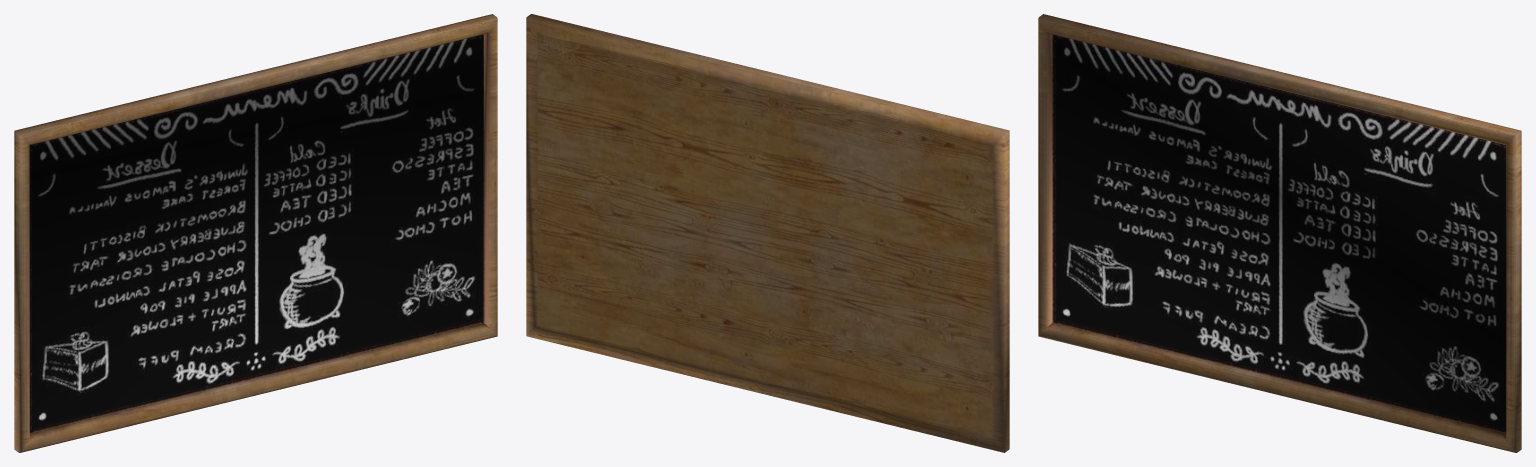
3 renders of one model, left to right at view 1: azimuth 30°, elevation 25°; view 2: azimuth 150°, elevation 25°; view 3: azimuth 330°, elevation 25°, orthographic.
Bounding box in the file's own units: 0.9426 × 0.6 × 0.0238.
1 material, 1 textured.
